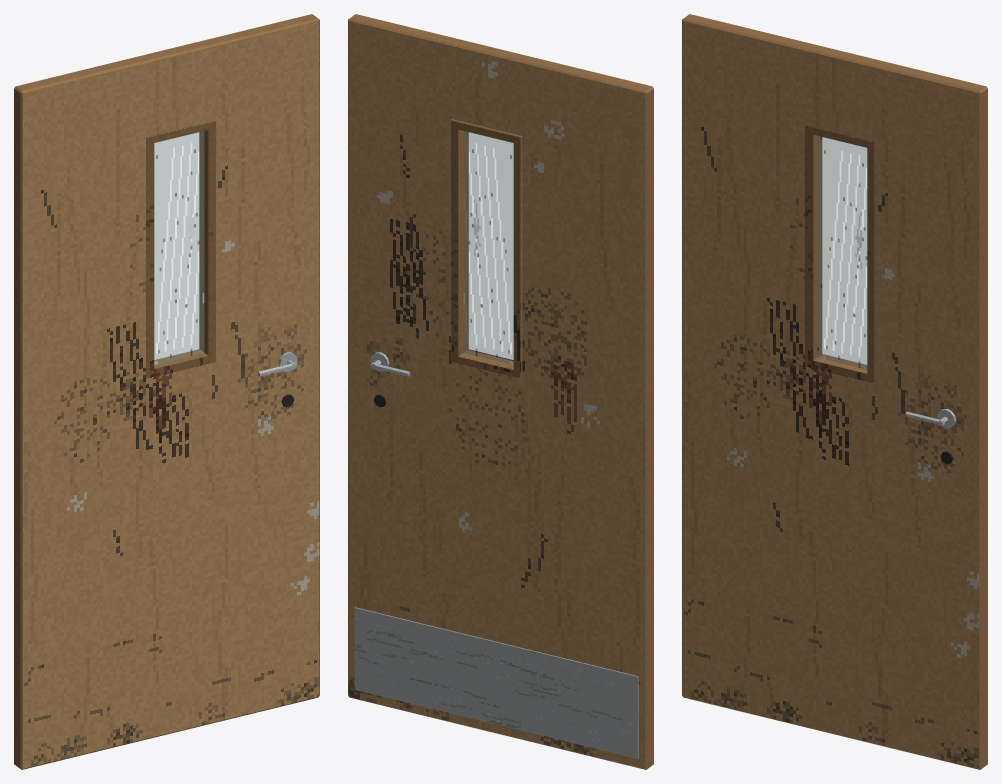
The model's file is door_service_4.glb.
3 renders of one model, left to right at view 1: azimuth 30°, elevation 25°; view 2: azimuth 150°, elevation 25°; view 3: azimuth 330°, elevation 25°, orthographic.
Visible parts, largest first — view 1: leaf_body, door_glass, glass_bead_front; view 2: leaf_body, kick_plate, door_glass, glass_bead_back; view 3: leaf_body, door_glass, glass_bead_front.
Boxes of the visible parts, <box> form: leaf_body: <box>14,14,319,769</box>; door_glass: <box>154,131,204,364</box>; glass_bead_front: <box>145,119,216,379</box>; leaf_body: <box>348,14,653,769</box>; kick_plate: <box>354,607,638,758</box>; door_glass: <box>463,131,513,364</box>; glass_bead_back: <box>451,119,522,379</box>; leaf_body: <box>682,14,987,769</box>; door_glass: <box>817,136,867,369</box>; glass_bead_front: <box>804,124,874,384</box>.
Bounding box in the file's own units: 0.95 × 2.06 × 0.1217.
Materials: 2 (2 with a texture image).
